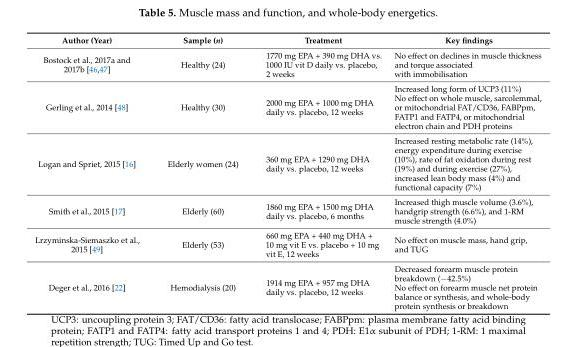table: (34, 34, 540, 310)
table column: (387, 34, 540, 310), (251, 34, 387, 310), (34, 34, 152, 310), (152, 34, 251, 310)
table column header: (34, 34, 540, 47)
table row: (34, 132, 540, 193), (34, 80, 540, 132), (34, 260, 540, 310), (34, 193, 540, 227), (34, 47, 540, 80), (34, 227, 540, 260), (34, 34, 540, 47)
